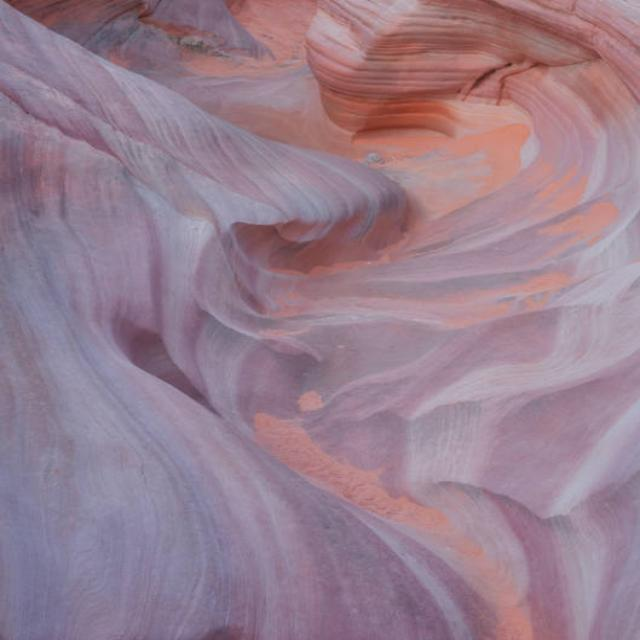Sedimentary: (1, 1, 640, 626)
